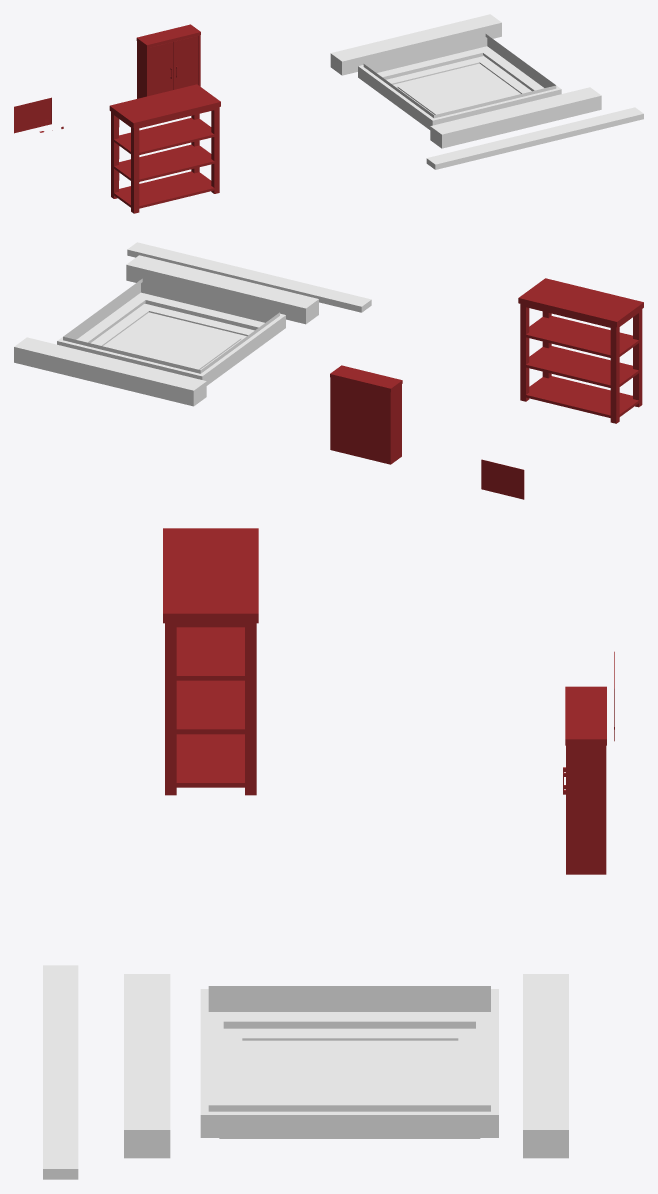
Rendered from Props_Gamelab_Office.fbx.
3 views of the same model, one above another, from view 1: azimuth 30°, elevation 25°; view 2: azimuth 150°, elevation 25°; view 3: azimuth 270°, elevation 25° (orthographic). The views are drawn at different scales.
Visible parts, largest first — view 1: Box012, Object017, Object024, Object016, Object022, Object026, Object015; view 2: Box012, Object017, Object016, Object022, Object024, Object026, Object015; view 3: Box012, Object017, Object024, Object022, Object016, Object026.
Boxes of the visible parts, left/top/right/bottom form: Box012: left=358, top=33, right=561, bottom=129; Object017: left=109, top=84, right=220, bottom=213; Object024: left=430, top=87, right=601, bottom=148; Object016: left=136, top=24, right=200, bottom=98; Object022: left=330, top=14, right=501, bottom=75; Object026: left=426, top=107, right=643, bottom=169; Object015: left=14, top=97, right=51, bottom=133; Box012: left=57, top=278, right=285, bottom=385; Object017: left=518, top=278, right=643, bottom=423; Object016: left=330, top=365, right=402, bottom=464; Object022: left=14, top=337, right=206, bottom=406; Object024: left=126, top=255, right=318, bottom=324; Object026: left=127, top=242, right=371, bottom=312; Object015: left=481, top=459, right=524, bottom=499; Box012: left=200, top=986, right=498, bottom=1138; Object017: left=163, top=528, right=258, bottom=795; Object024: left=124, top=974, right=170, bottom=1158; Object022: left=523, top=974, right=568, bottom=1158; Object016: left=563, top=686, right=606, bottom=874; Object026: left=43, top=965, right=78, bottom=1179.
Bounding box in the file's own units: 2264 × 431 × 1152.
